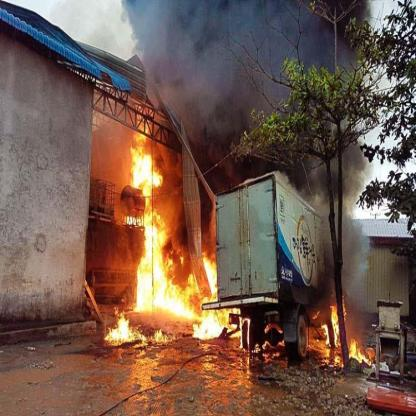fire: (125, 115, 218, 344), (101, 302, 145, 349), (192, 306, 242, 345), (318, 296, 349, 349), (347, 334, 374, 374)
